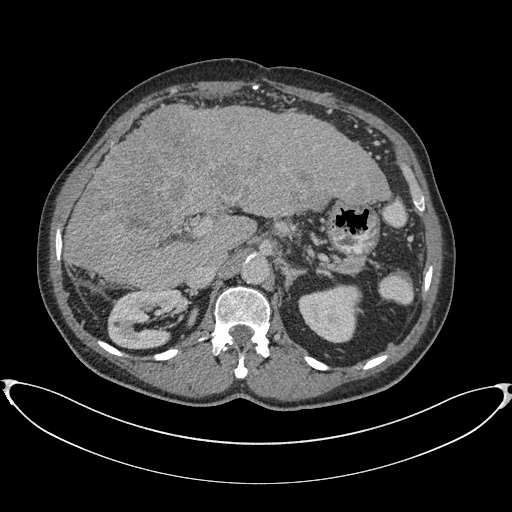Lesion: (113, 319, 121, 328)
